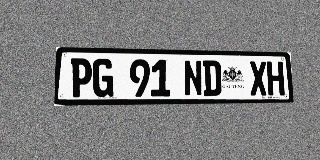1: (151, 59, 170, 97)
9: (130, 59, 150, 97)
D: (203, 60, 222, 96)
G: (92, 59, 114, 97)
H: (266, 61, 285, 96)
N: (183, 60, 203, 96)
P: (70, 58, 92, 97)
X: (249, 61, 268, 96)
